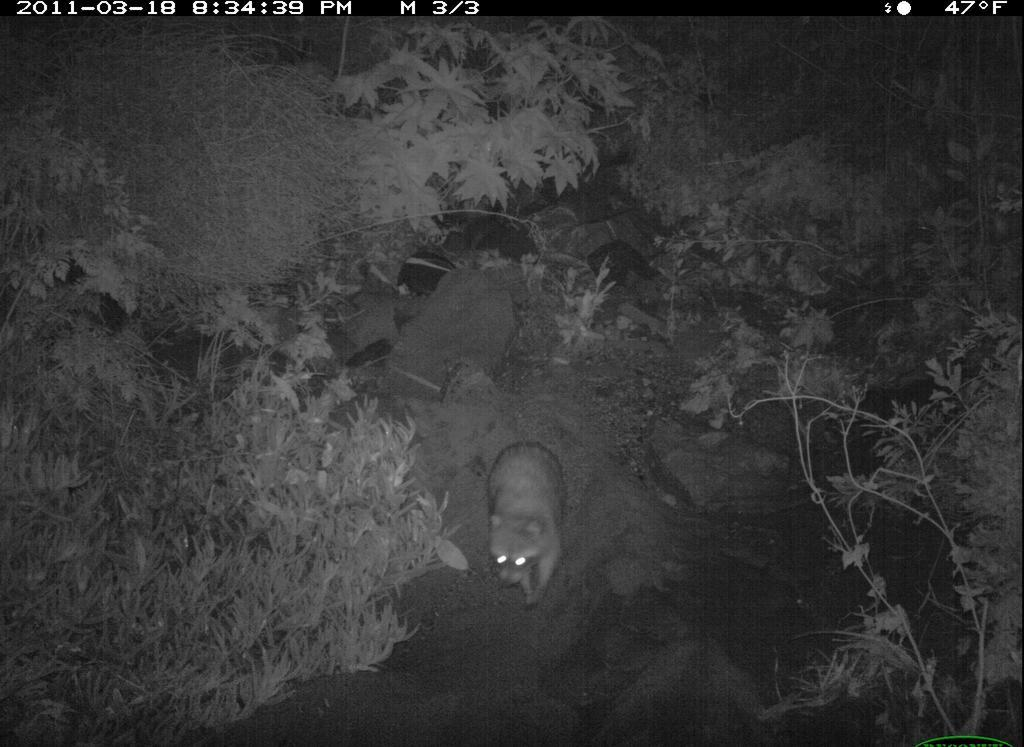raccoon: (478, 414, 578, 615)
